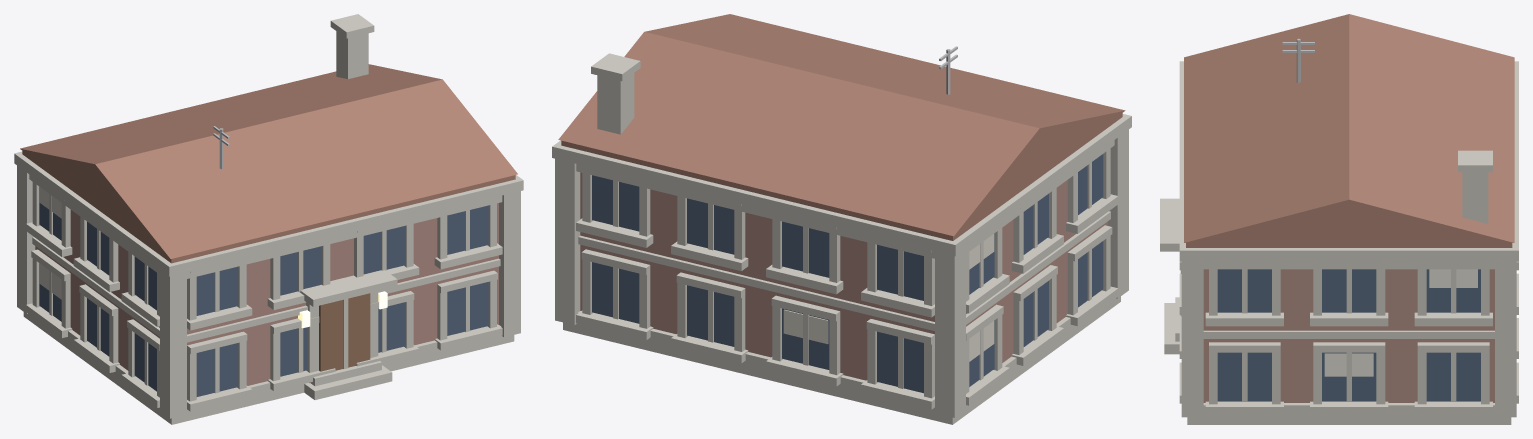
Rendered from bld_3_0.glb.
The picture shows the model from 3 angles, left to right: view 1: azimuth 30°, elevation 25°; view 2: azimuth 150°, elevation 25°; view 3: azimuth 270°, elevation 25°; orthographic projection. The views are drawn at different scales.
Visible parts, largest first — view 1: trim, rf, win, w, door, blind; view 2: trim, rf, win, w, blind; view 3: rf, trim, win, w, blind, ac.
Part boxes in pixels (bbox=[...]): trim: bbox=[14, 14, 523, 424]; rf: bbox=[20, 64, 517, 263]; win: bbox=[39, 187, 488, 396]; w: bbox=[35, 203, 498, 385]; door: bbox=[319, 293, 370, 371]; blind: bbox=[39, 187, 61, 299]; trim: bbox=[552, 53, 1131, 424]; rf: bbox=[558, 14, 1125, 240]; win: bbox=[592, 154, 1103, 393]; w: bbox=[580, 172, 1107, 380]; blind: bbox=[783, 234, 994, 361]; rf: bbox=[1184, 14, 1514, 247]; trim: bbox=[1160, 61, 1518, 424]; win: bbox=[1217, 269, 1480, 401]; w: bbox=[1203, 269, 1494, 402]; blind: bbox=[1324, 269, 1477, 376]; ac: bbox=[1282, 38, 1314, 83].
Size of the model in its own units: 4.12 by 2.6 by 3.3.
